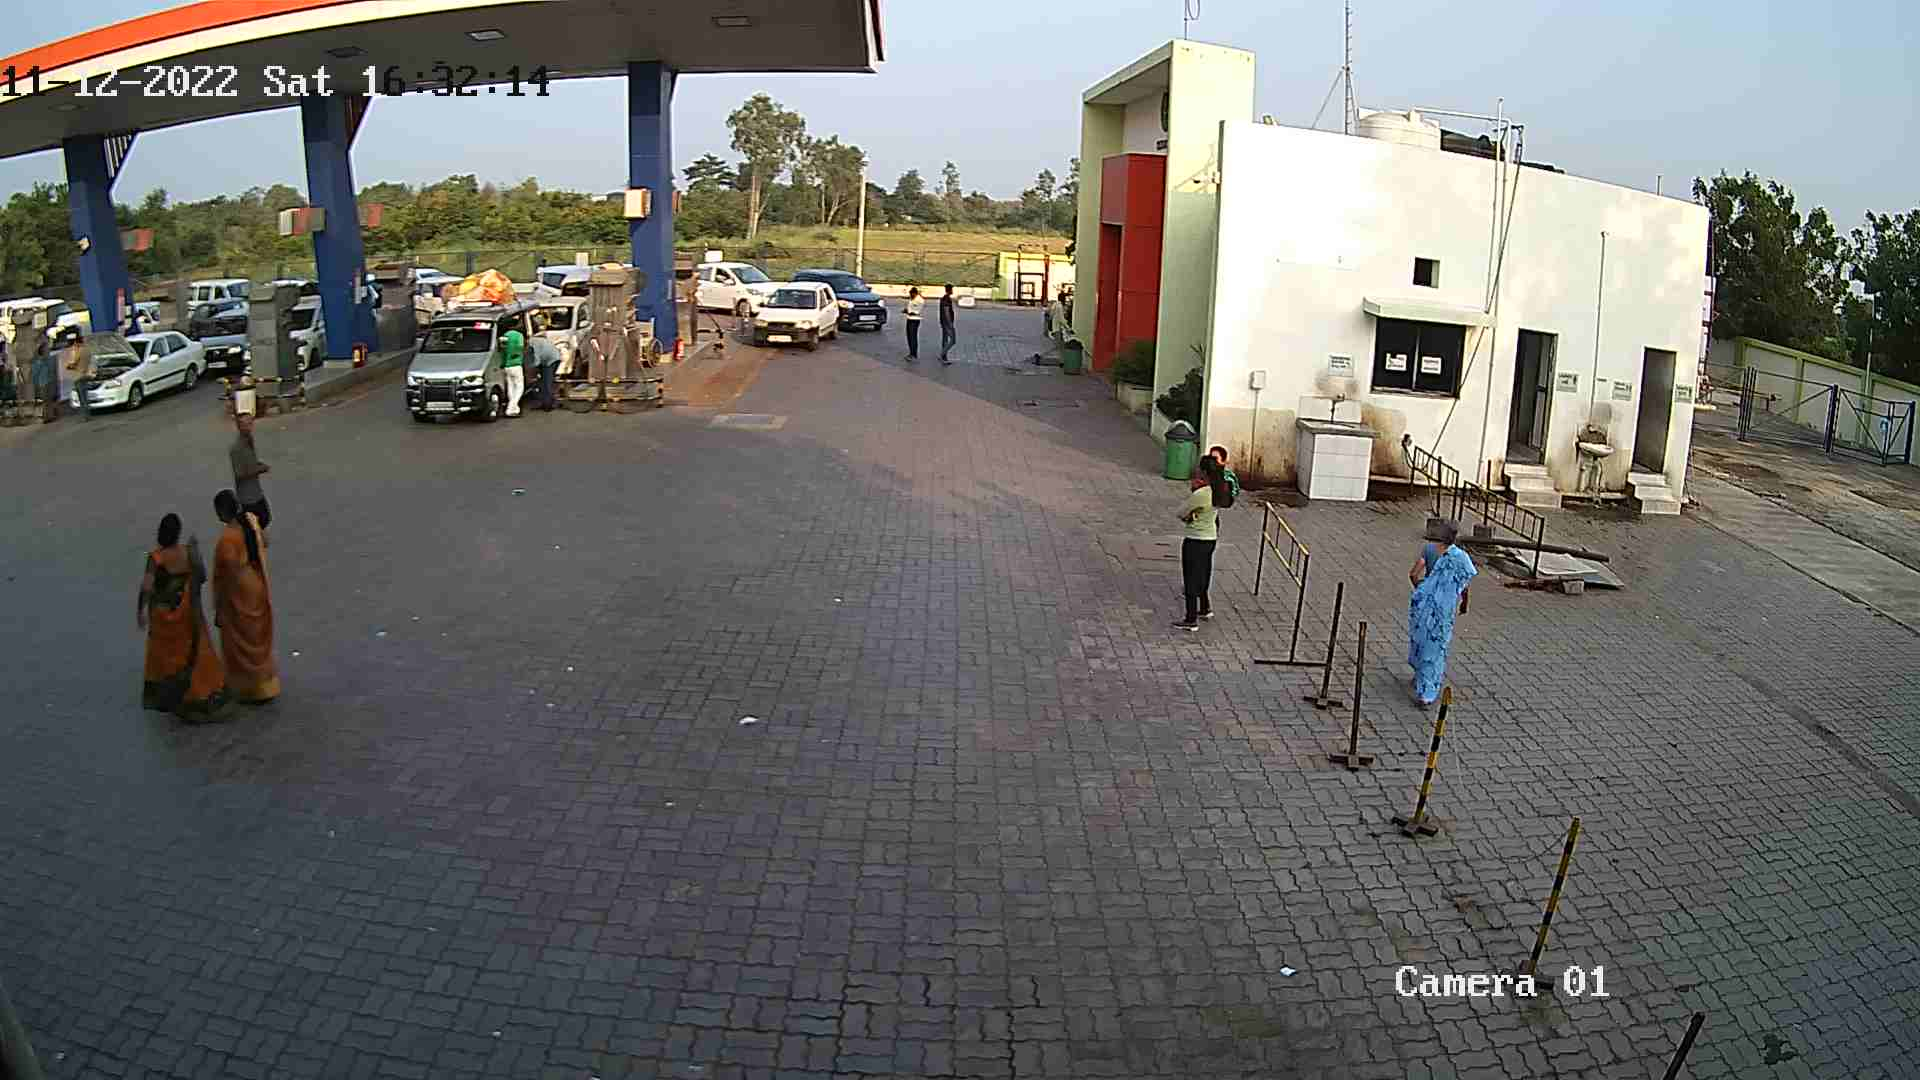Car: (402, 262, 551, 429), (65, 320, 215, 415), (526, 260, 597, 389), (742, 276, 841, 351), (786, 266, 889, 335), (684, 253, 785, 323), (284, 278, 338, 380), (181, 302, 251, 380), (182, 266, 257, 323), (409, 262, 471, 326), (178, 293, 247, 338), (116, 281, 164, 338)
